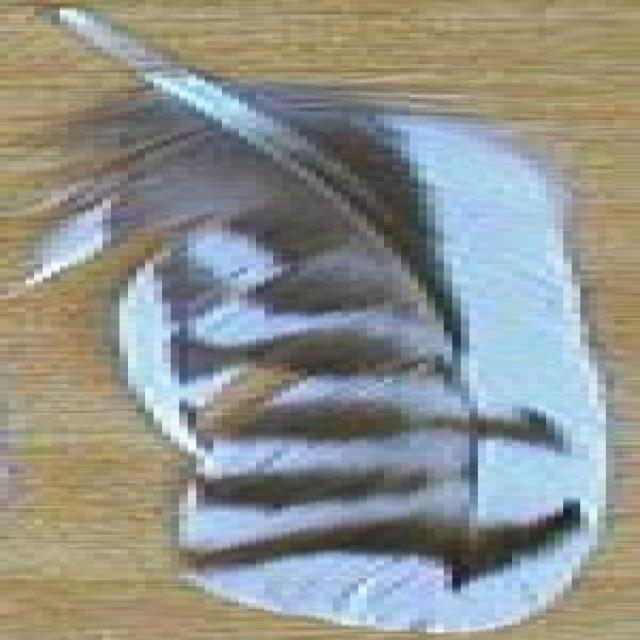feather: (18, 1, 628, 632)
